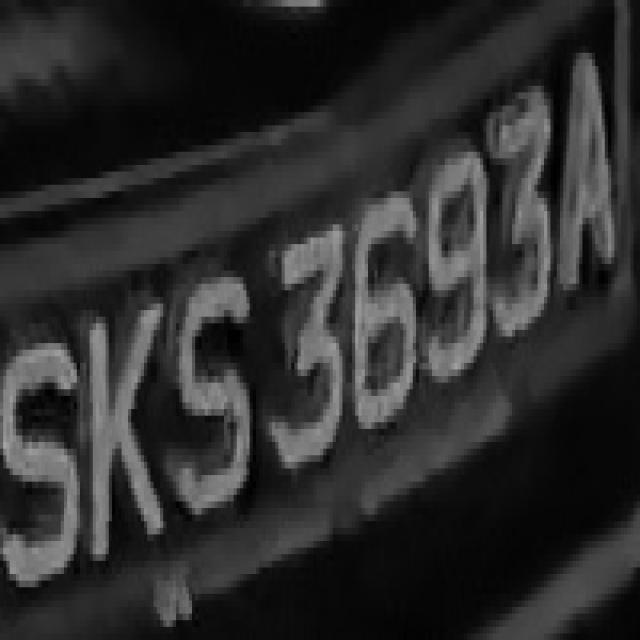3: (266, 178, 346, 482), (480, 92, 550, 356)
6: (346, 171, 426, 462)
9: (422, 118, 496, 416)
A: (547, 39, 621, 330)
K: (83, 264, 163, 587)
S: (160, 251, 250, 521), (0, 304, 80, 600)
